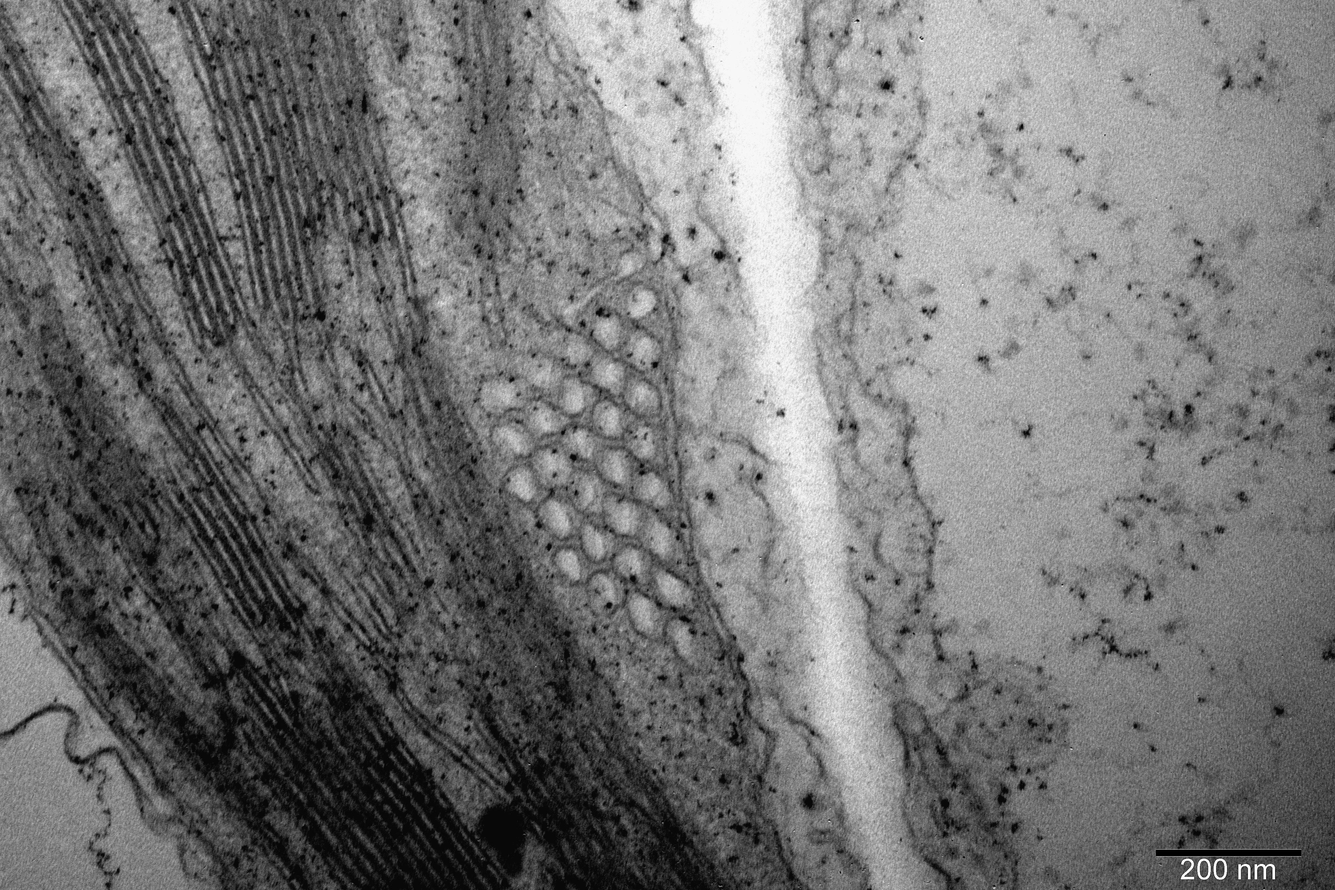granum: (391, 340, 630, 759), (157, 0, 410, 328), (48, 0, 256, 355), (222, 657, 523, 890), (41, 568, 276, 844), (0, 0, 166, 373), (25, 327, 176, 574), (424, 0, 539, 264), (159, 467, 315, 646), (491, 730, 660, 890), (312, 433, 439, 645), (642, 832, 728, 888)
